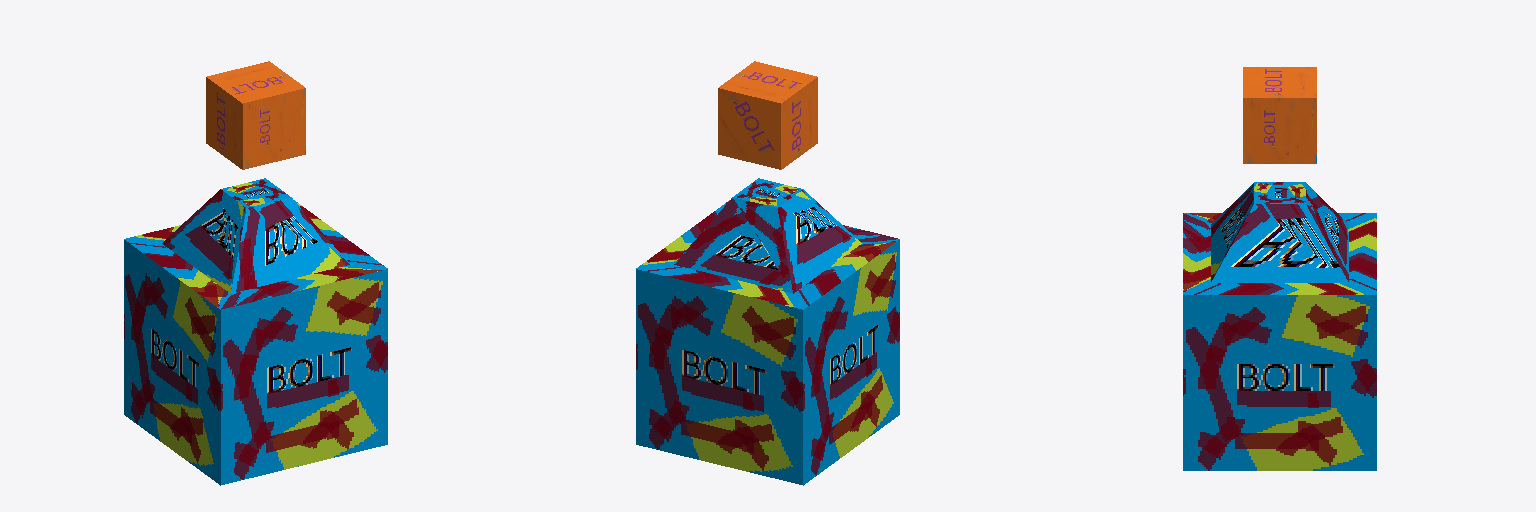
3 renders of one model, left to right at view 1: azimuth 30°, elevation 25°; view 2: azimuth 150°, elevation 25°; view 3: azimuth 270°, elevation 25°, orthographic.
Parts seen in each view (by area): view 1: Cube; view 2: Cube; view 3: Cube.
Part boxes in pixels (bbox=[...]): Cube: bbox=[124, 61, 387, 485]; Cube: bbox=[636, 61, 899, 485]; Cube: bbox=[1183, 67, 1376, 470].
Size of the model in its own units: 2 by 3.95 by 2.
Materials: 2 (2 with a texture image).